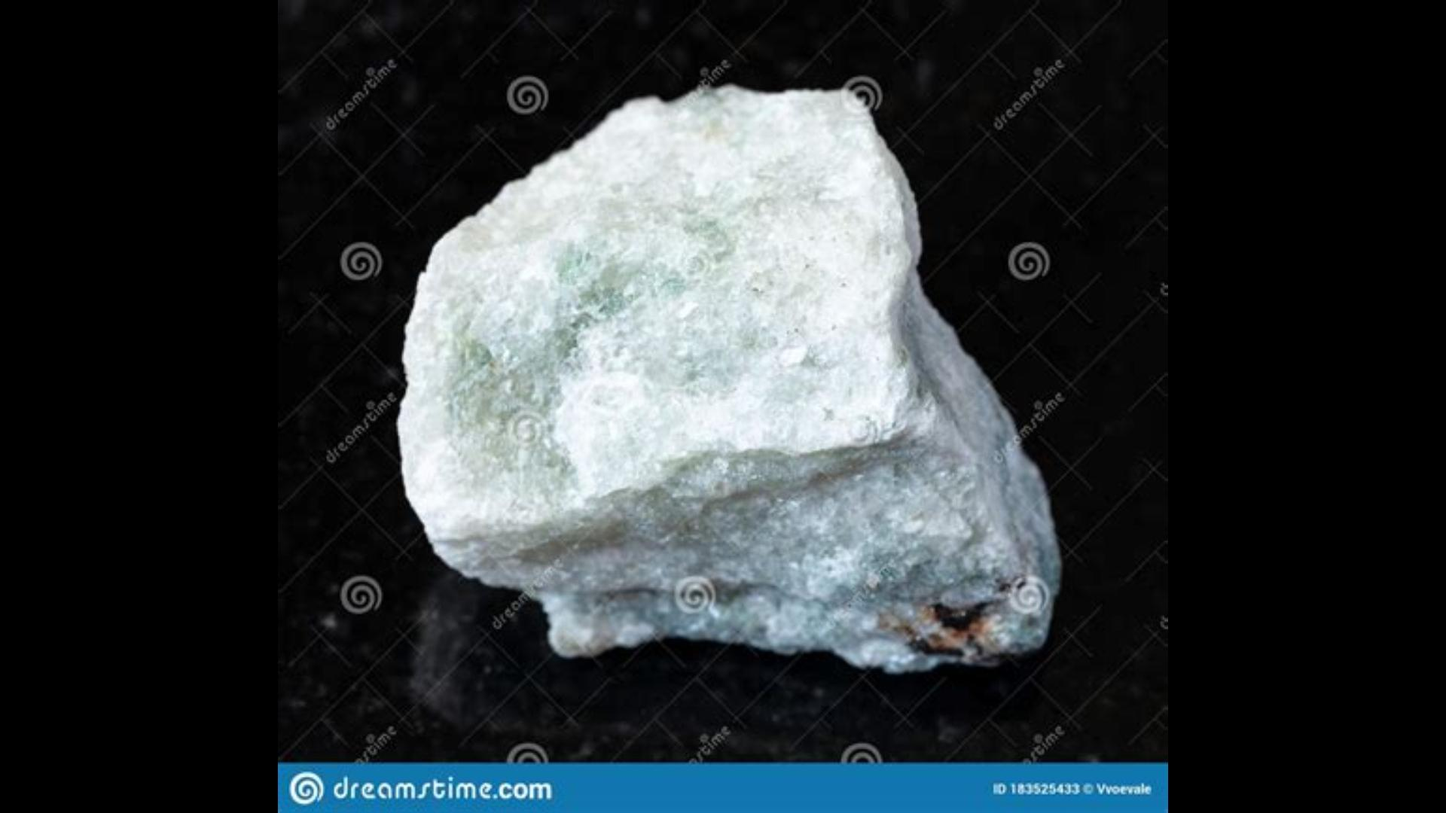rock: (406, 90, 1059, 668)
